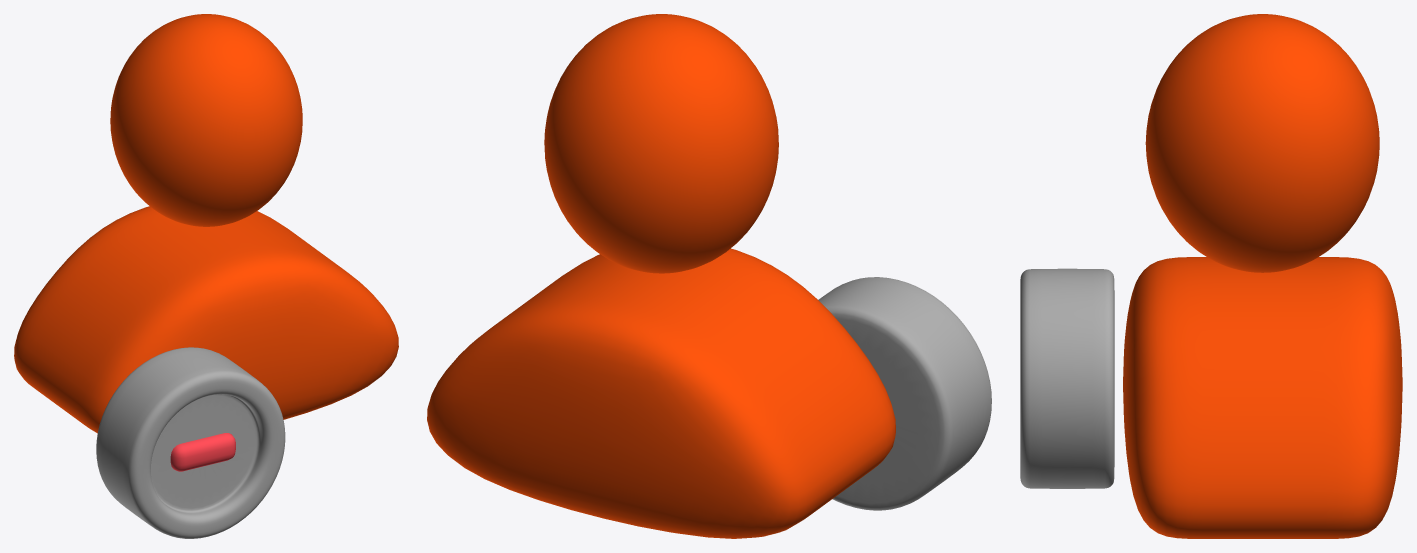
Rendered from remove-user-animated-3d-icon-1198956222825.glb.
3 views of the same model, side by side, from view 1: azimuth 30°, elevation 25°; view 2: azimuth 150°, elevation 25°; view 3: azimuth 270°, elevation 25° (orthographic). The views are drawn at different scales.
Parts seen in each view (by area): view 1: User.002, Circle.002, Remove; view 2: User.002, Circle.002; view 3: User.002, Circle.002.
Boxes of the visible parts, x1=… form: User.002: x1=14, y1=14, x2=398, y2=433; Circle.002: x1=96, y1=347, x2=285, y2=538; Remove: x1=170, y1=433, x2=235, y2=471; User.002: x1=427, y1=14, x2=895, y2=538; Circle.002: x1=818, y1=277, x2=991, y2=510; User.002: x1=1123, y1=14, x2=1402, y2=538; Circle.002: x1=1020, y1=268, x2=1114, y2=488.
Bounding box in the file's own units: 2.04 × 2.5 × 1.69.
